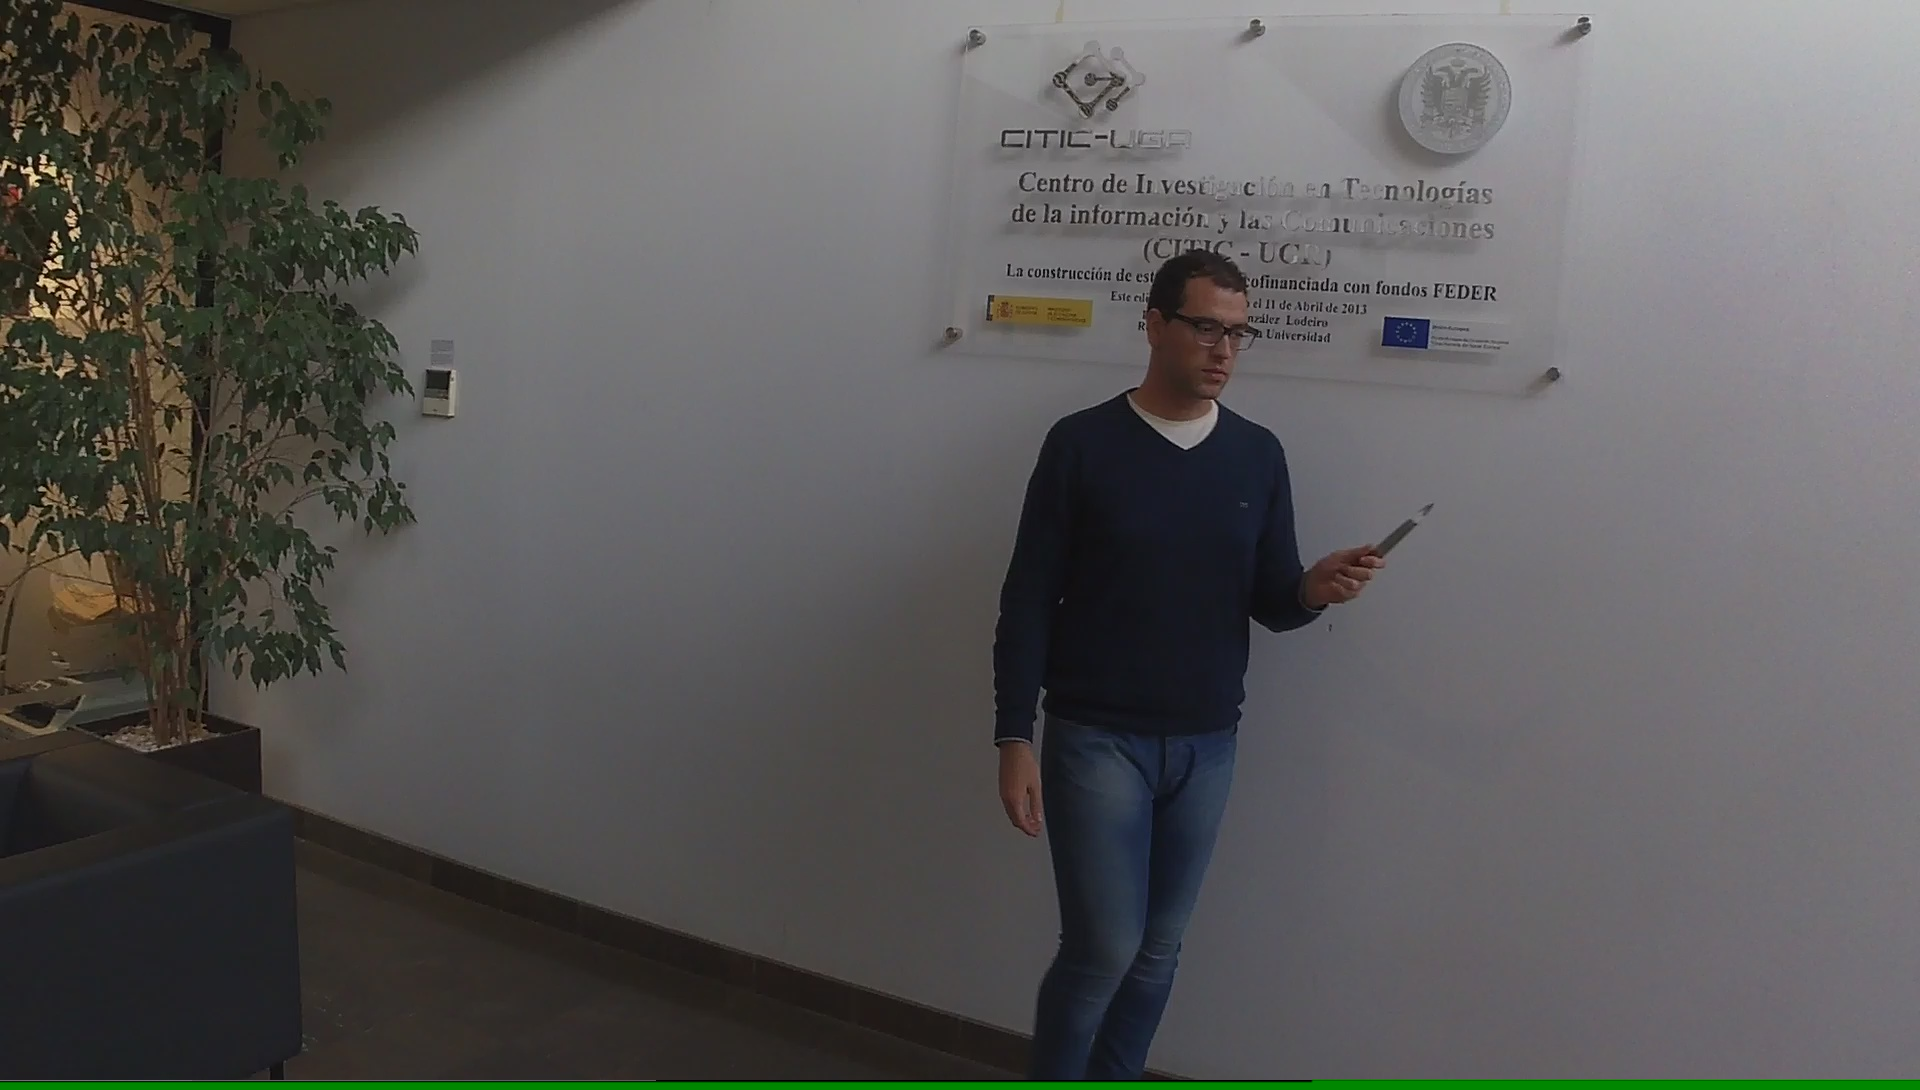knife: (1341, 494, 1443, 587)
